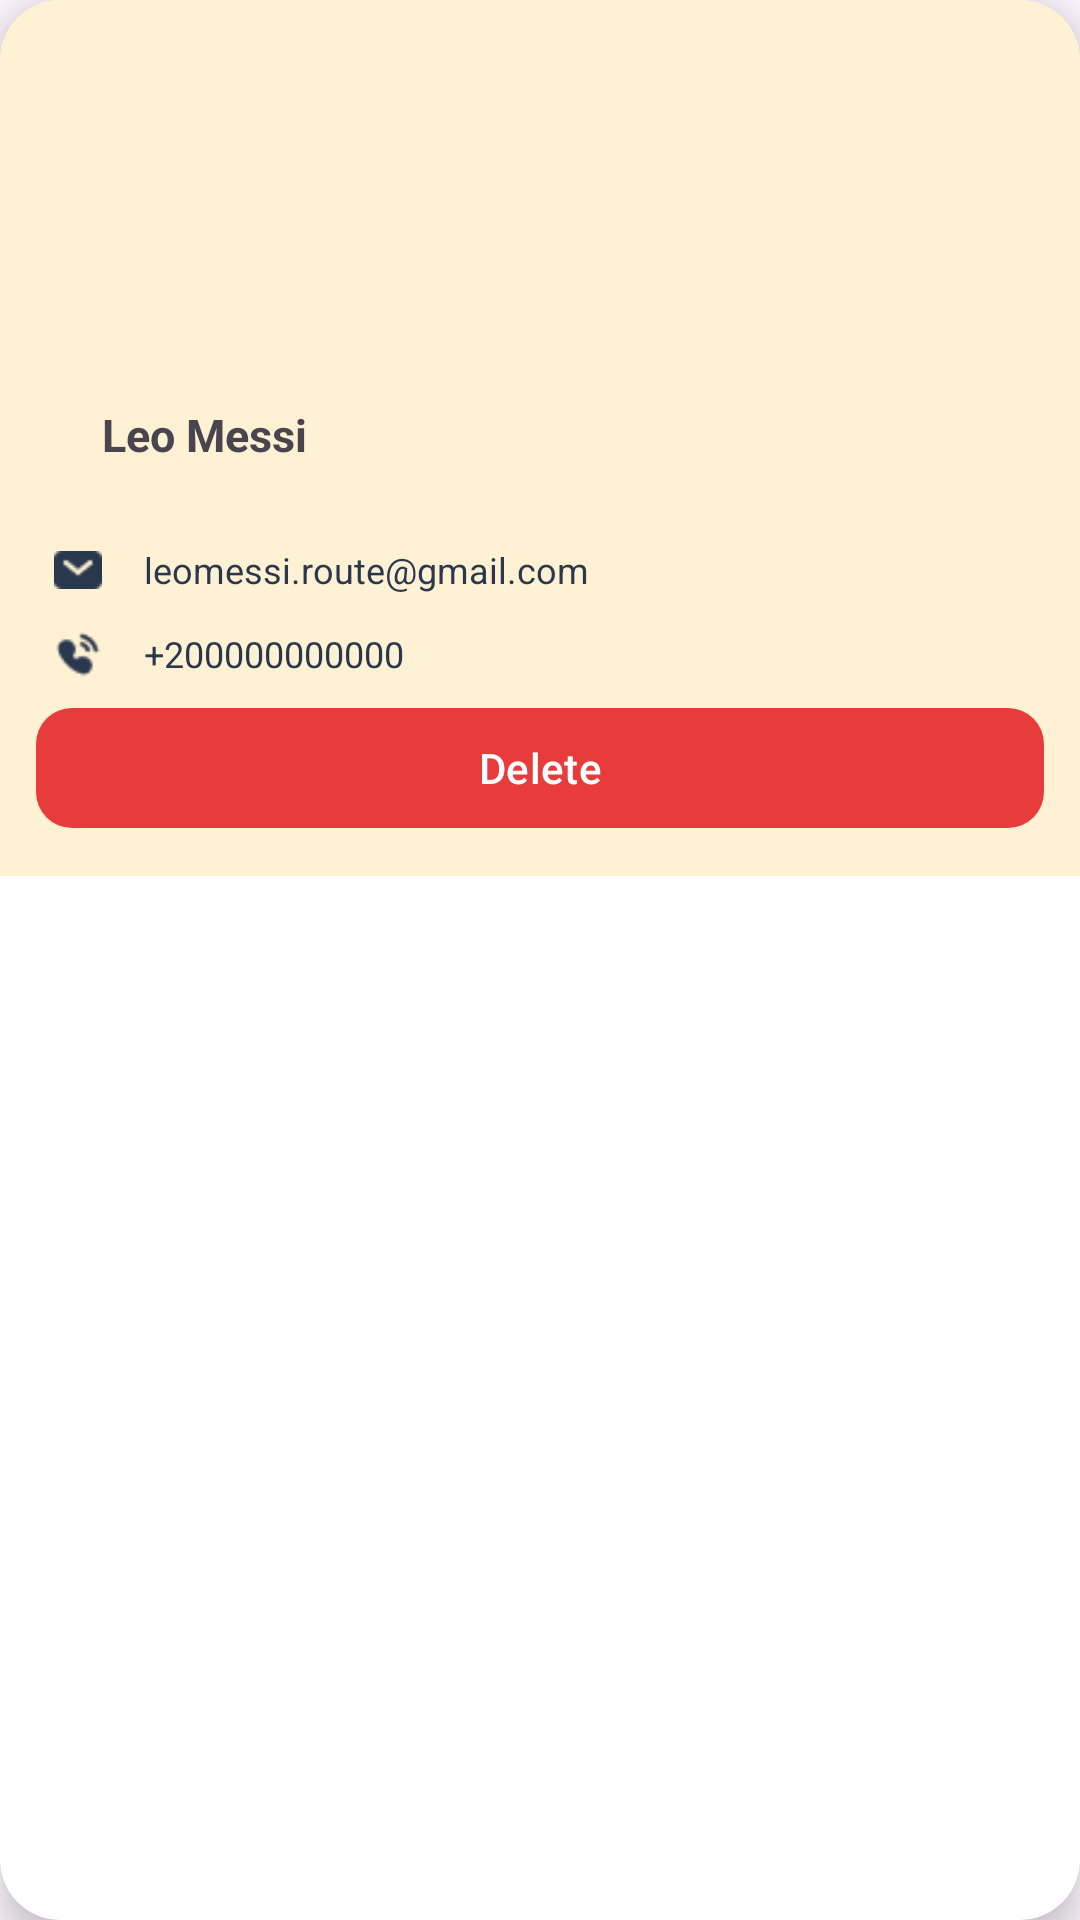

Named icons in this screenshot (1080 x 1920) and their bounding boxes, (x1, y1, x2, y2):
phone call: (56, 633, 100, 676)
